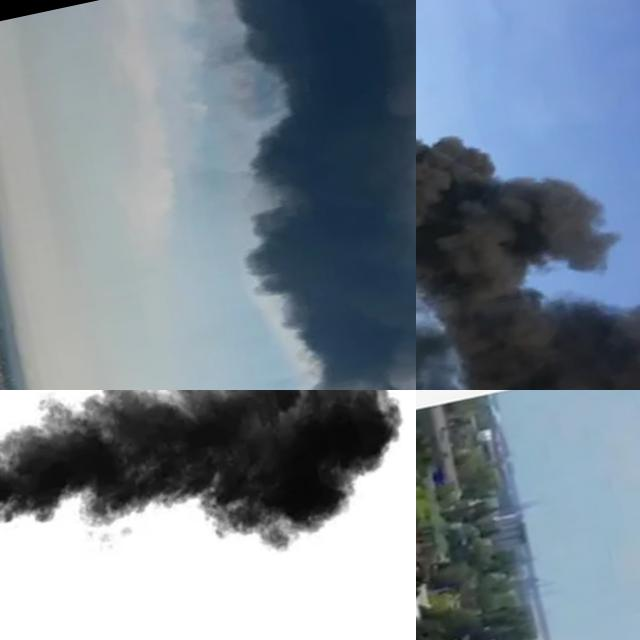smoke: (0, 0, 416, 390), (0, 390, 416, 640), (416, 0, 640, 390)
